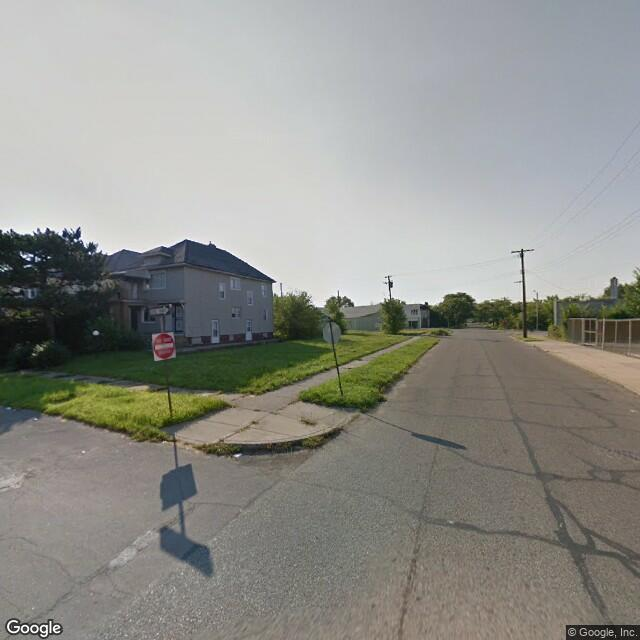litter: (230, 447, 244, 460), (3, 403, 12, 411), (161, 435, 169, 443)
